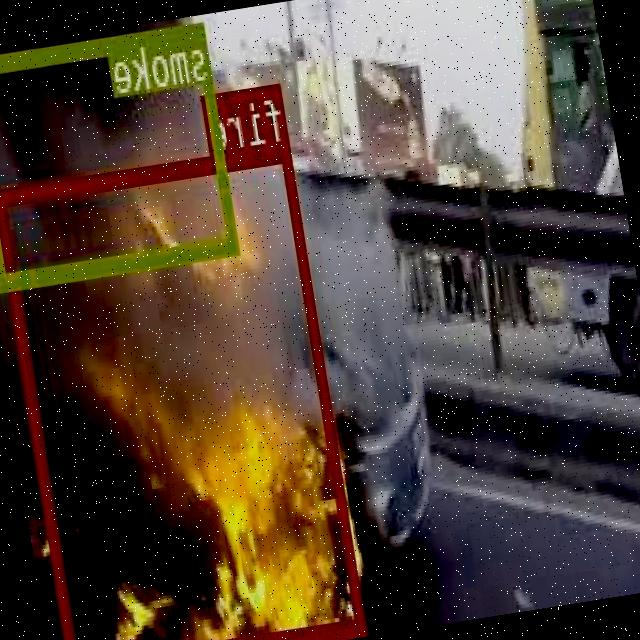fire: (0, 141, 368, 640)
smoke: (0, 20, 241, 287)
